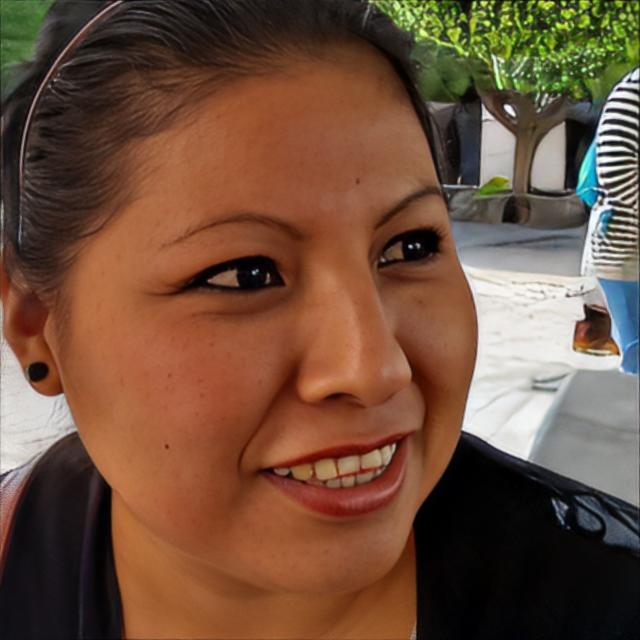happy: (82, 58, 480, 600)
